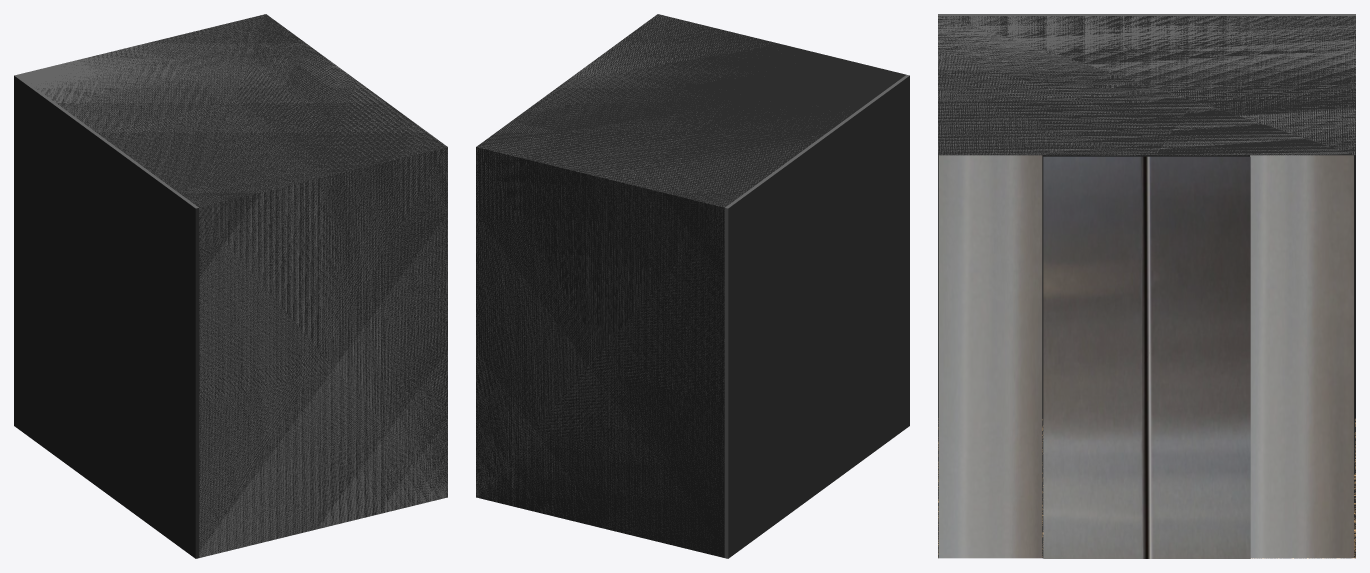
The model's file is elevator.fbx.
The picture shows the model from 3 angles, left to right: view 1: azimuth 30°, elevation 25°; view 2: azimuth 150°, elevation 25°; view 3: azimuth 270°, elevation 25°; orthographic projection. The views are drawn at different scales.
Parts seen in each view (by area): view 1: Cube; view 2: Cube; view 3: Cube, Cube.001, Cube.002.
Part boxes in pixels (<box>): Cube: <box>14,14,447,558</box>; Cube: <box>476,14,909,558</box>; Cube: <box>938,14,1355,558</box>; Cube.001: <box>938,155,1042,558</box>; Cube.002: <box>1250,155,1353,557</box>.
Size of the model in its own units: 214 by 284 by 267.
Materials: 6 (3 with a texture image).
